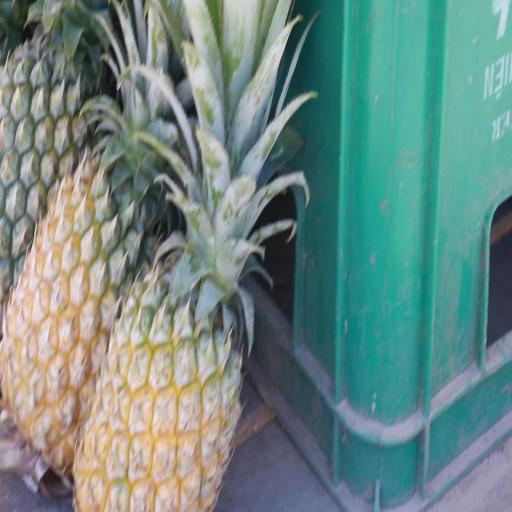Pineapple - v8 v1: (0, 34, 155, 478), (69, 153, 245, 512)
